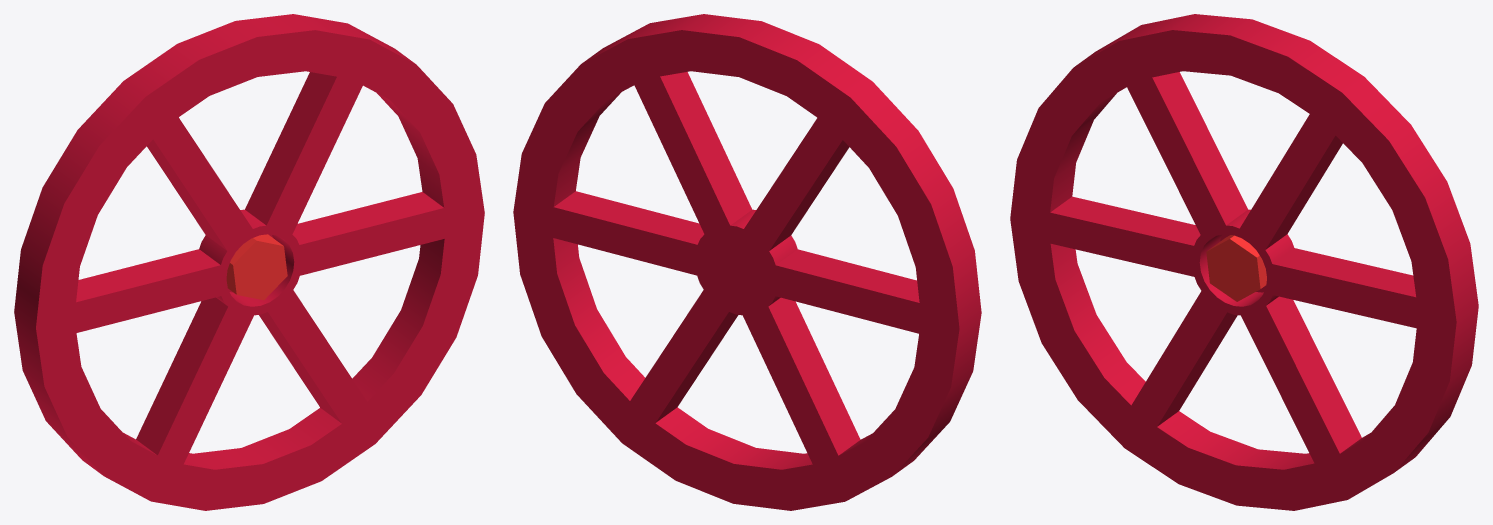
File: FireCabinetValve.dae
3 renders of one model, left to right at view 1: azimuth 30°, elevation 25°; view 2: azimuth 150°, elevation 25°; view 3: azimuth 330°, elevation 25°, orthographic.
Visible parts, largest first — view 1: group_1 (×3), group_0; view 2: group_1 (×2); view 3: group_1 (×3), group_0.
Boxes of the visible parts, left/top/right/bottom form: group_1 (×3): left=14, top=14, right=484, bottom=510; group_0: left=226, top=234, right=287, bottom=300; group_1 (×2): left=513, top=14, right=981, bottom=510; group_1 (×3): left=1010, top=14, right=1478, bottom=510; group_0: left=1206, top=235, right=1266, bottom=301.
Size of the model in its own units: 4.64 by 0.4166 by 4.64.
